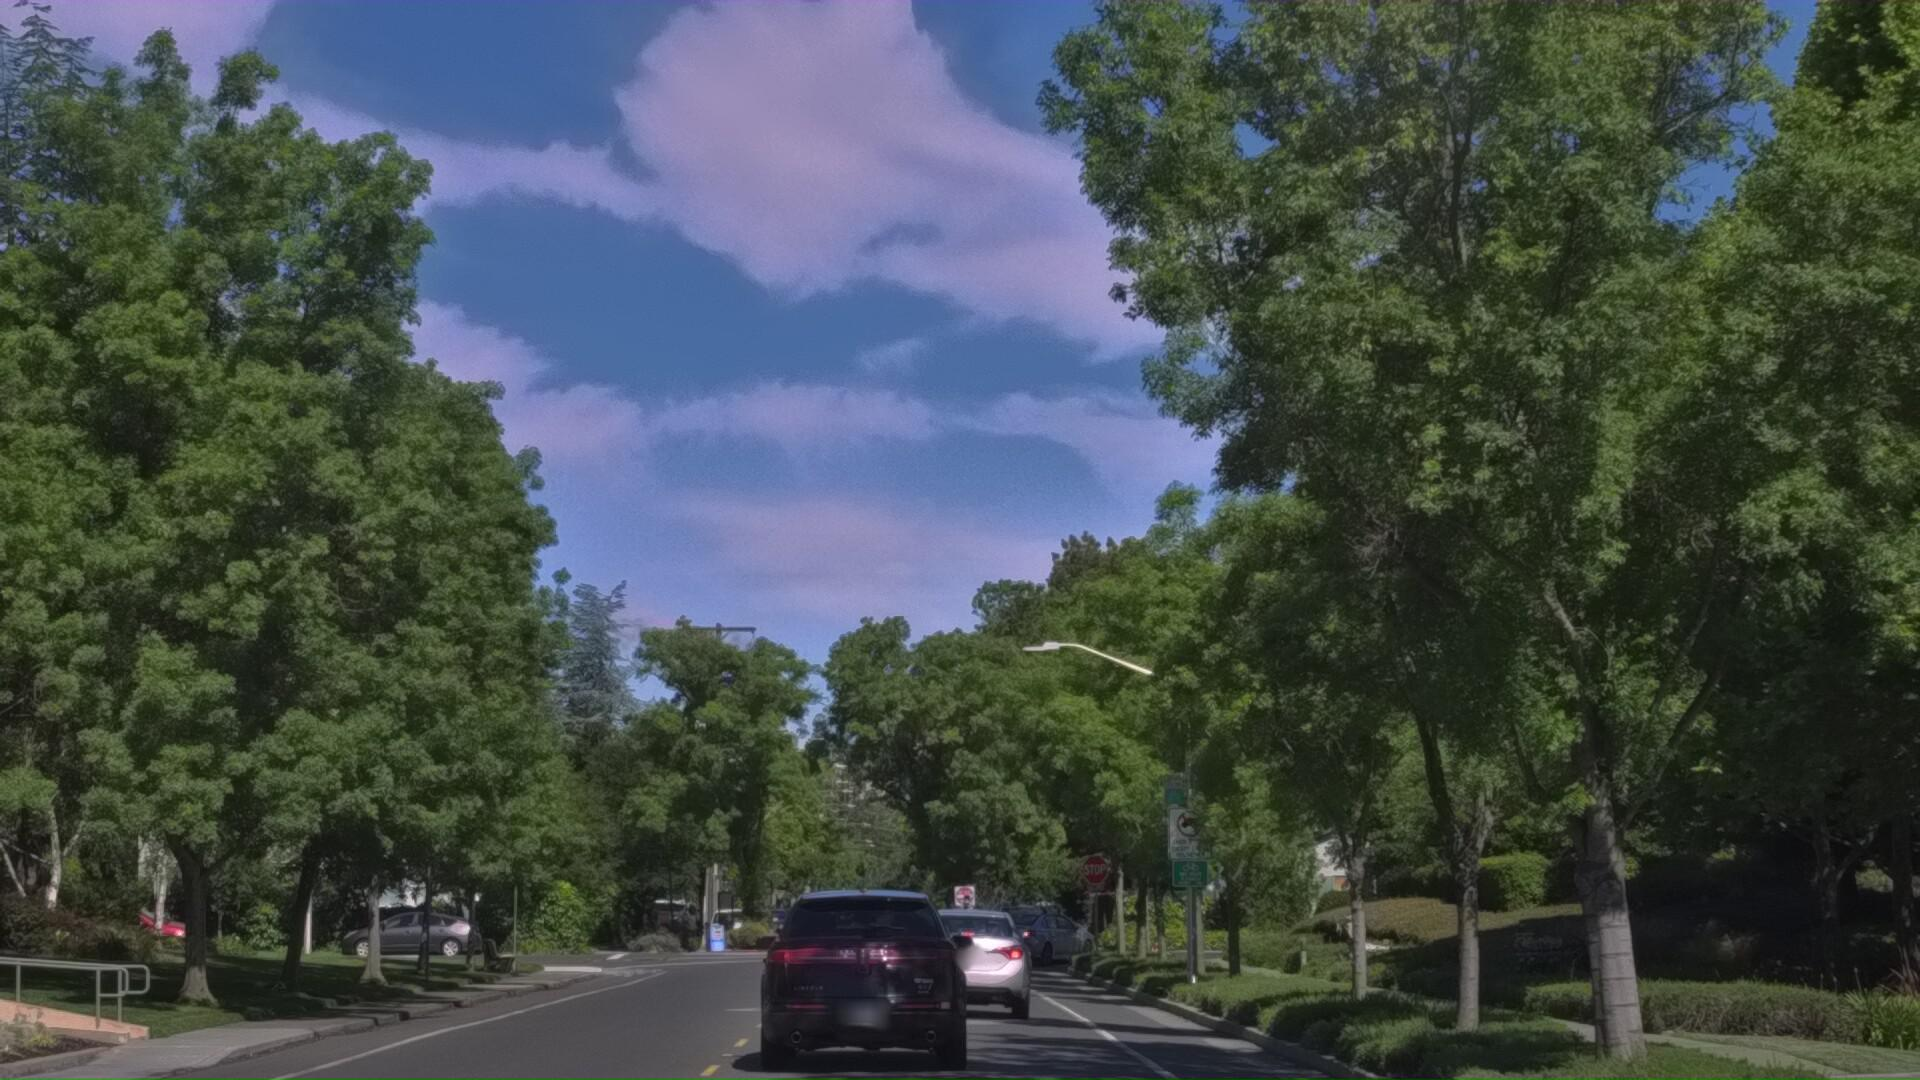car: (750, 975, 981, 1080), (901, 1004, 1044, 1080)
